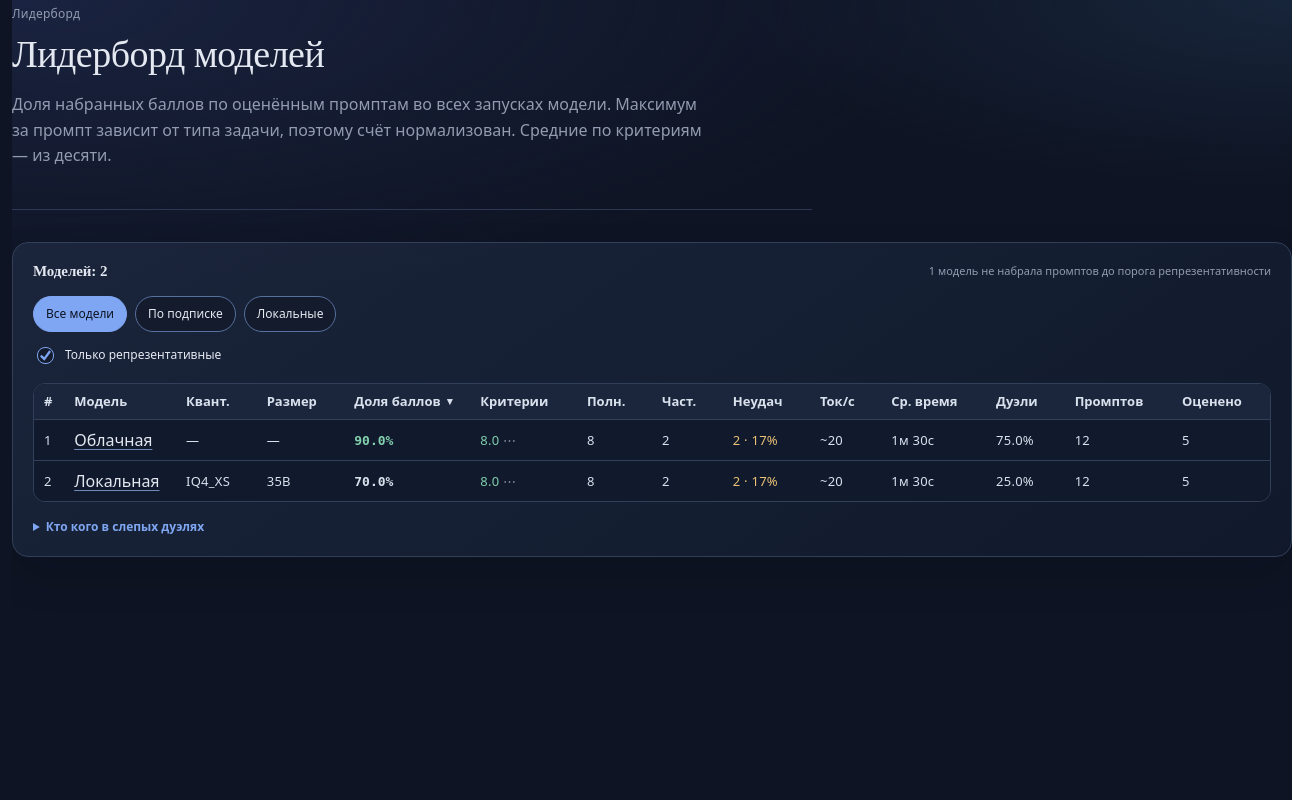
Scenario: лидерборд › показывает долю побед рядом с долей баллов и счёт по соперникам
Expected: the text "75.0%" is shown, [986,420,1065,461]
Click the heading "Кто кого в слепых дуэлях" at (125, 527), box [46,518,204,535]
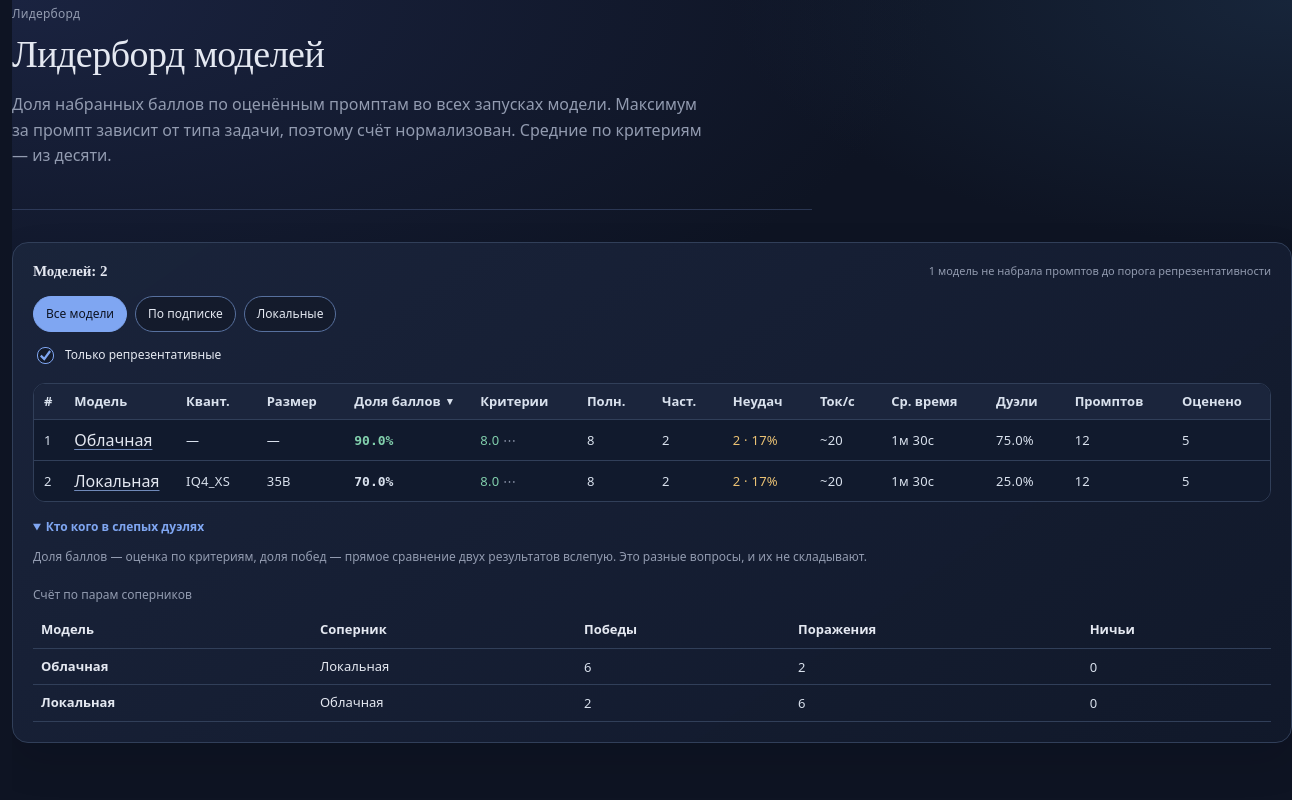
Now the text "Локальная" below "Победы" is shown, box [320,657,389,675]
Now the text "Это разные вопросы" is shown, box [33,548,867,565]
